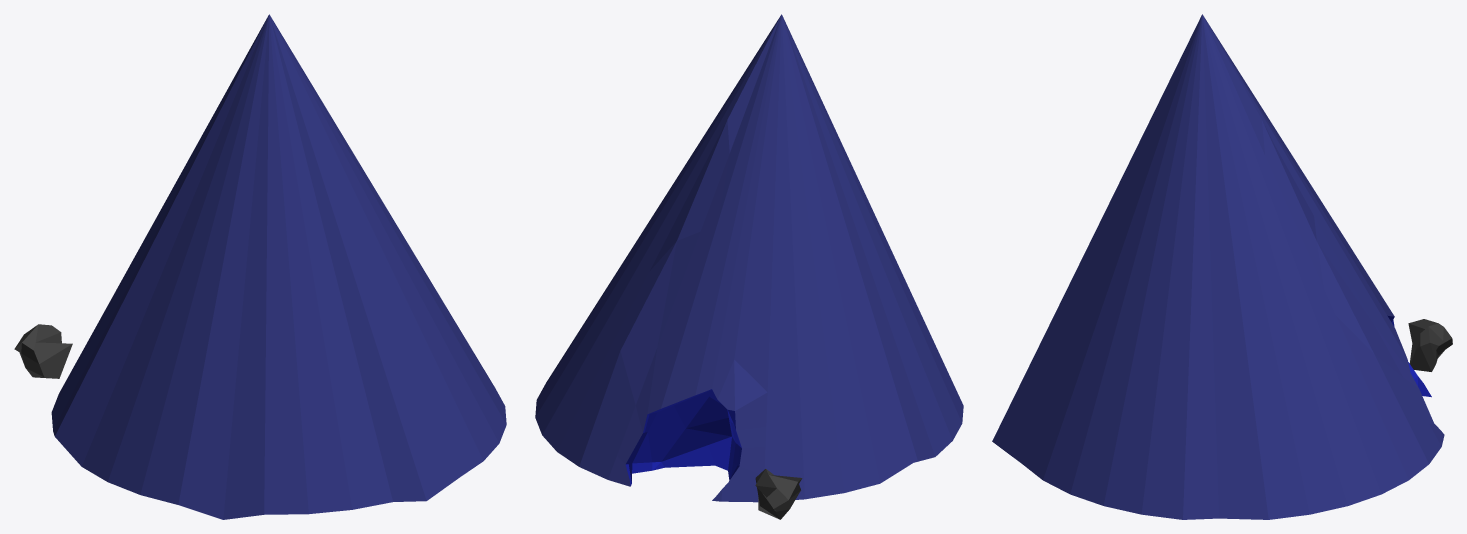
The model's file is DeformedCone (1).fbx.
The picture shows the model from 3 angles, left to right: view 1: azimuth 30°, elevation 25°; view 2: azimuth 150°, elevation 25°; view 3: azimuth 270°, elevation 25°; orthographic projection. The views are drawn at different scales.
Parts seen in each view (by area): view 1: Cone, Cube; view 2: Cone, Cube; view 3: Cone, Cube.
Boxes of the visible parts, x1=… form: Cone: x1=51, y1=14, x2=506, y2=519; Cube: x1=14, y1=324, x2=72, y2=378; Cone: x1=535, y1=14, x2=963, y2=502; Cube: x1=755, y1=469, x2=802, y2=519; Cone: x1=992, y1=14, x2=1444, y2=519; Cube: x1=1408, y1=319, x2=1452, y2=371.
Size of the model in its own units: 200 by 207 by 209.
